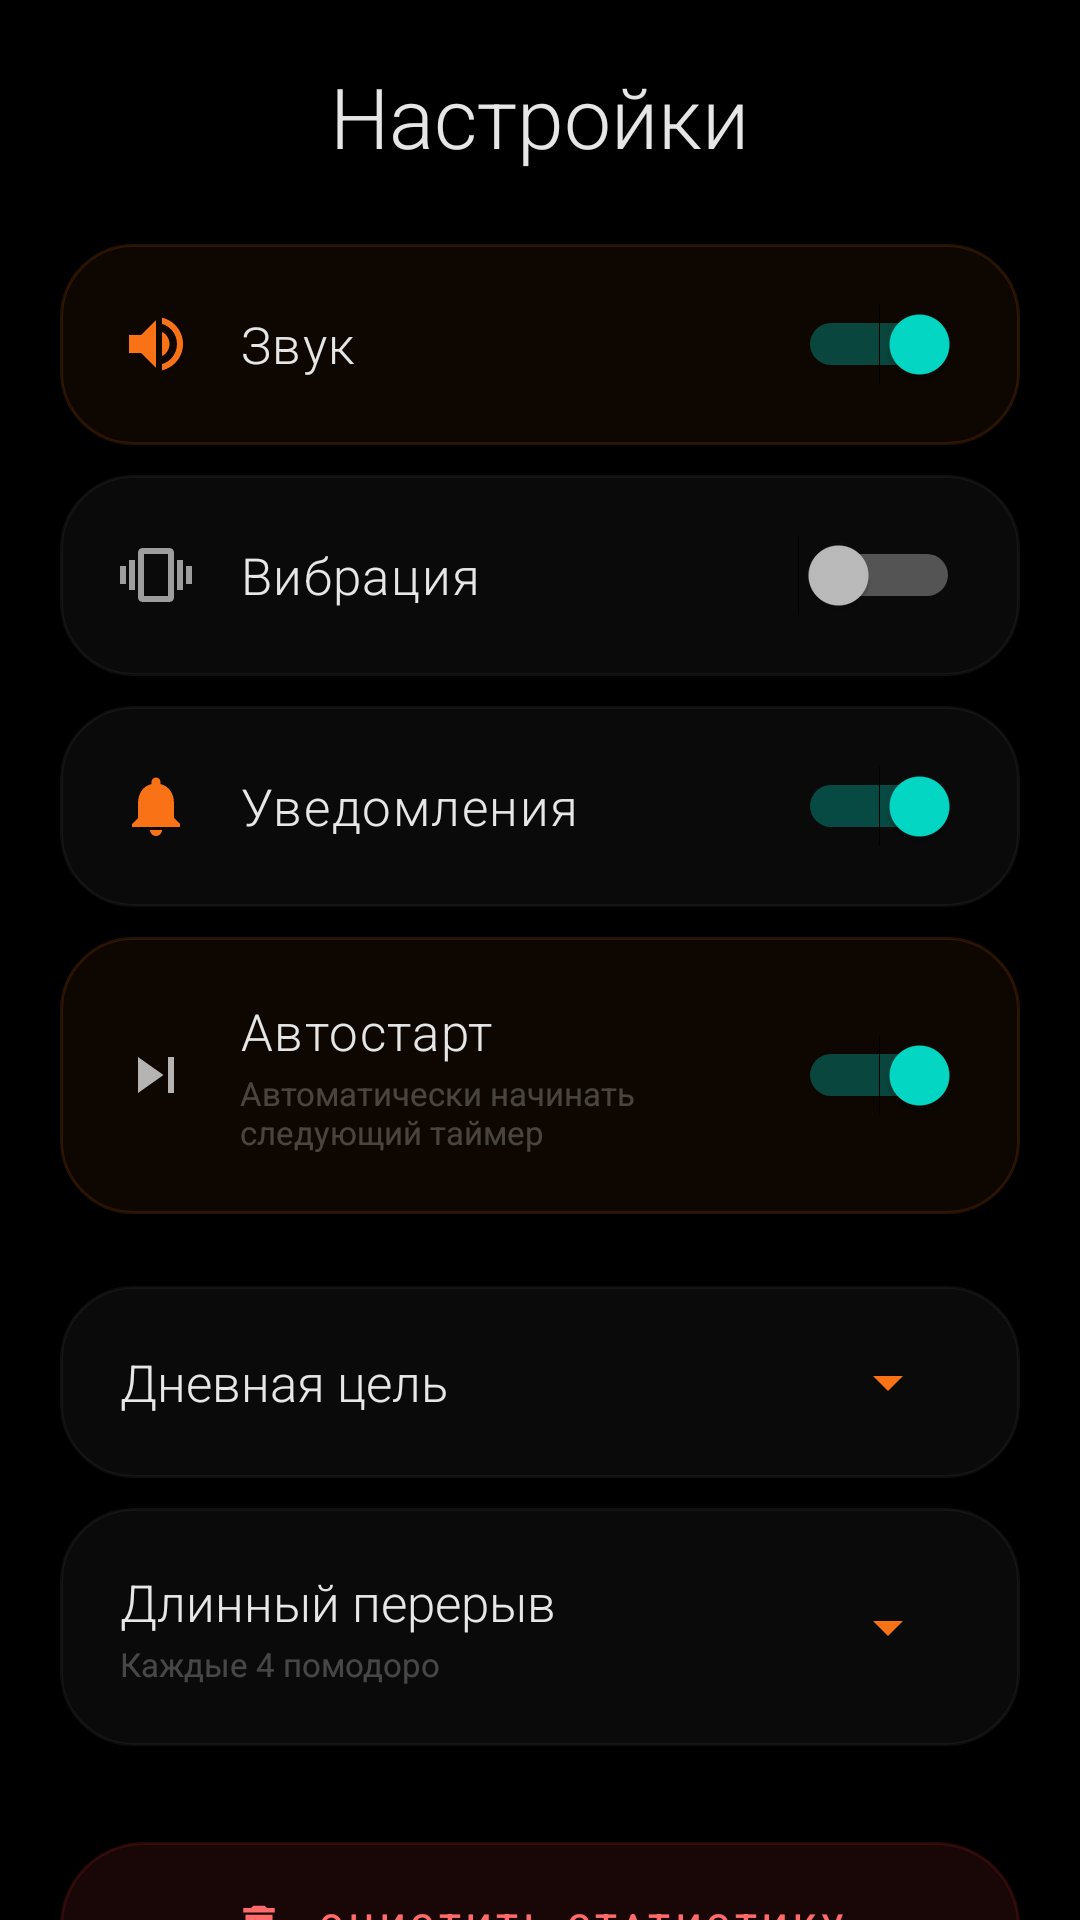

Point at icon controls on the screen. Image size 1080px×1920px, points as (x,y).
notifications: (156,806)
skip: (156,1075)
vibration: (156,575)
volume: (156,344)
